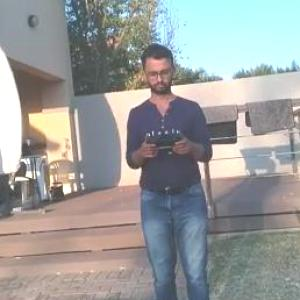follow: (110, 44, 210, 299)
